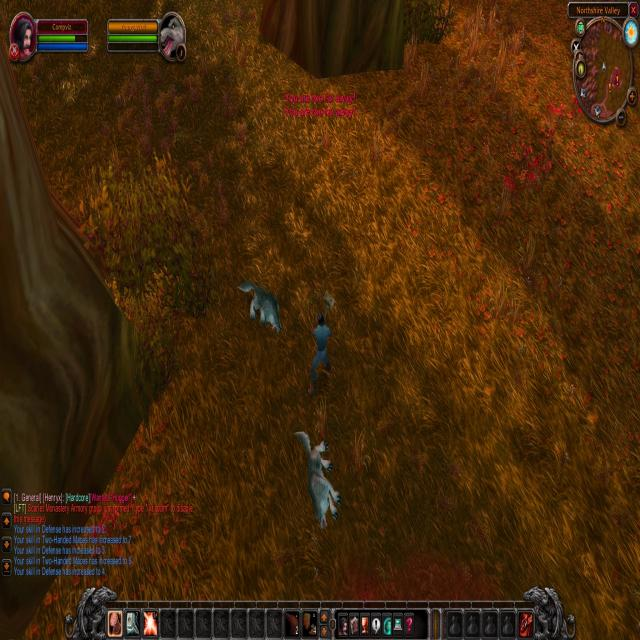wolf: (288, 420, 346, 535), (235, 273, 286, 340)
